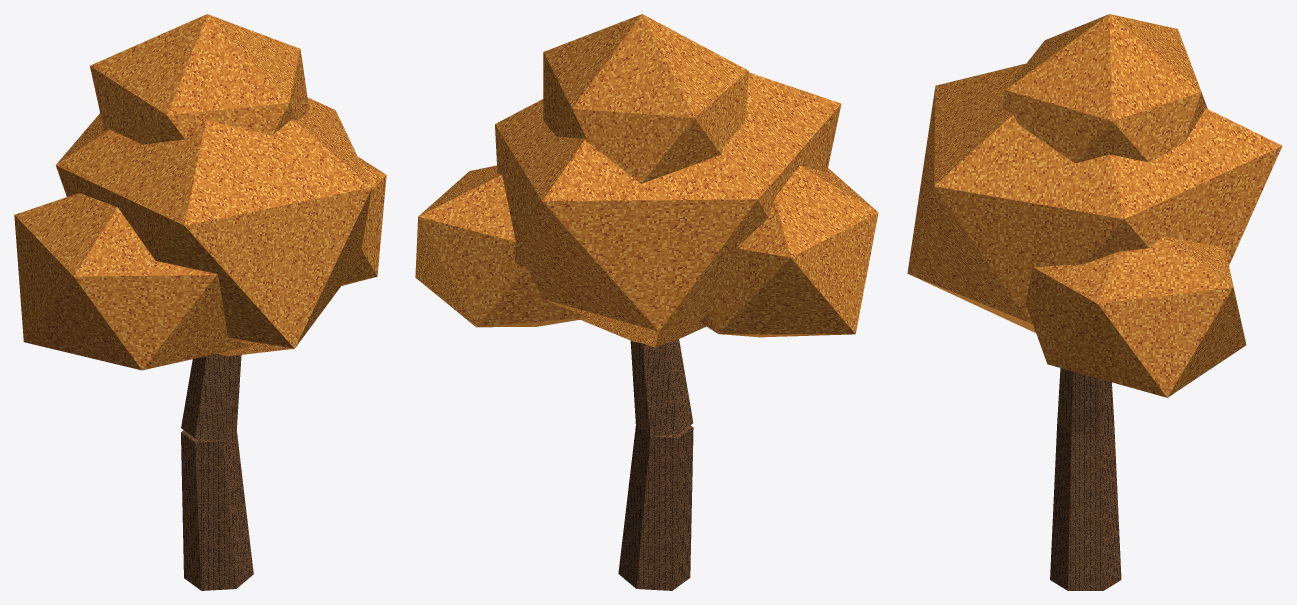
Rendered from tree_autumn.glb.
3 renders of one model, left to right at view 1: azimuth 30°, elevation 25°; view 2: azimuth 150°, elevation 25°; view 3: azimuth 270°, elevation 25°, orthographic. The views are drawn at different scales.
Parts seen in each view (by area): view 1: Body.002; view 2: Body.002; view 3: Body.002.
Boxes of the visible parts, left/top/right/bottom form: Body.002: left=14, top=14, right=386, bottom=590; Body.002: left=415, top=14, right=878, bottom=590; Body.002: left=907, top=14, right=1282, bottom=590.
Bounding box in the file's own units: 3.84 × 5.26 × 3.15.
2 materials, 2 textured.
